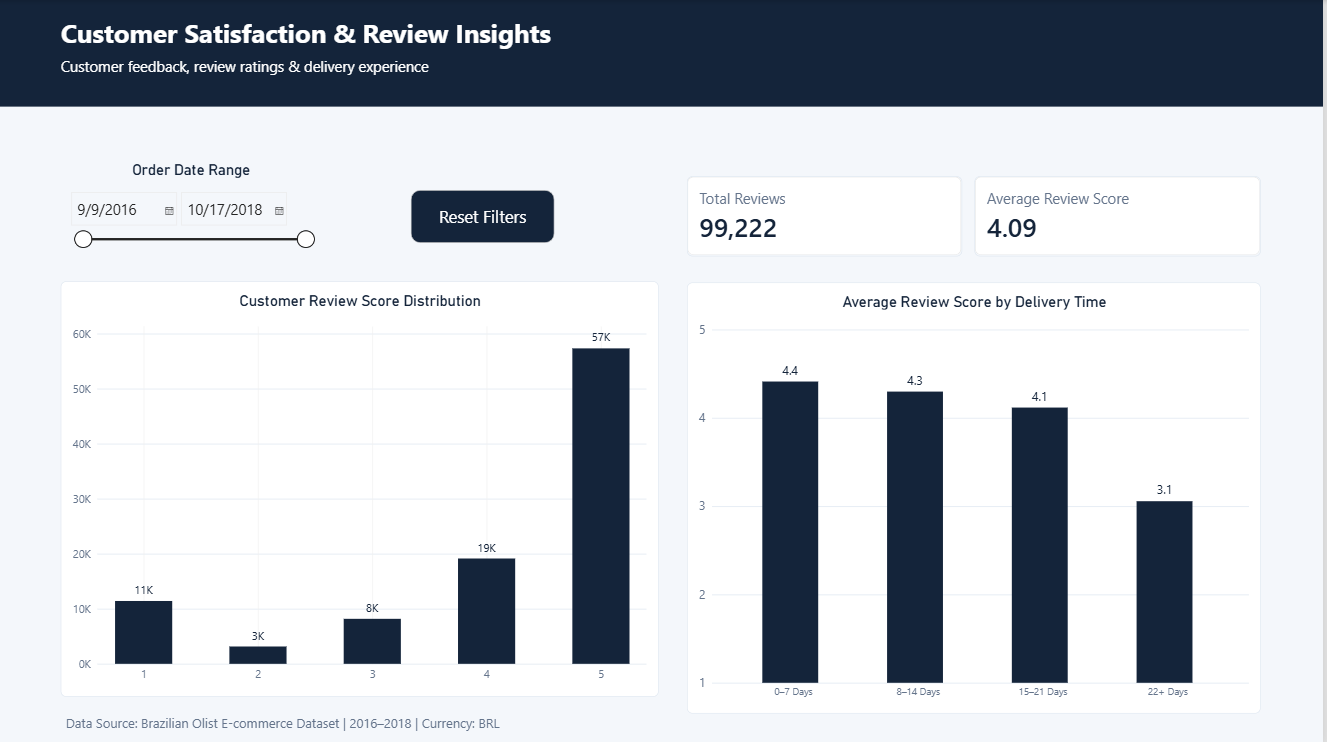

This screenshot's page, from the dashboard's own definition file:
{"tool":"powerbi","page":{"name":"Customer Satisfaction","canvas":[1920,1080],"ordinal":3},"visuals":[{"type":"shape","box":[0,0,1920.4,154.4],"z":0},{"type":"cardVisual","fields":{"Data":["olist_customers_dataset.Average Review Score"]},"box":[1415.2,255.2,414.4,115.8],"z":1000},{"type":"clusteredColumnChart","title":"Customer Review Score Distribution","fields":{"Category":["olist_order_reviews_dataset.review_score"],"Y":["CountNonNull(olist_order_reviews_dataset.review_id)"]},"box":[92.7,408,865.4,601.7],"z":2000},{"type":"clusteredColumnChart","title":"Average Review Score by Delivery Time","fields":{"Category":["olist_orders_dataset.Delivery Time Group"],"Y":["olist_customers_dataset.Average Review Score"]},"box":[998.9,409,830.6,624.3],"z":3000},{"type":"cardVisual","fields":{"Data":["olist_customers_dataset.Total Reviews"]},"box":[998.9,255.2,398.1,115.8],"z":4000},{"type":"textbox","box":[91.9,22.1,727.7,55.1],"z":5000},{"type":"textbox","box":[91.9,80.9,634,57],"z":6000},{"type":"textbox","box":[99.5,1033.3,673.2,29],"z":7000},{"type":"slicer","title":"Order Date Range","fields":{"Values":["olist_orders_dataset.order_purchase_timestamp"]},"box":[99.5,233.4,363.4,138],"z":9000},{"type":"actionButton","box":[599,275.1,208.2,76.7],"z":10000}]}

Visuals, with their boxes in screenshot pixels (x1, y1, x2, y2), scaled from the page's 1920x1080 canvas onto the 1327x742 screenshot:
shape: (0,0,1326,106)
cardVisual - olist_customers_dataset.Average Review Score: (978,175,1265,255)
"Customer Review Score Distribution" clusteredColumnChart: (64,280,662,694)
"Average Review Score by Delivery Time" clusteredColumnChart: (690,281,1264,710)
cardVisual - olist_customers_dataset.Total Reviews: (690,175,966,255)
textbox: (64,15,566,53)
textbox: (64,56,502,95)
textbox: (69,710,534,730)
"Order Date Range" slicer: (69,160,320,255)
actionButton: (414,189,558,242)
